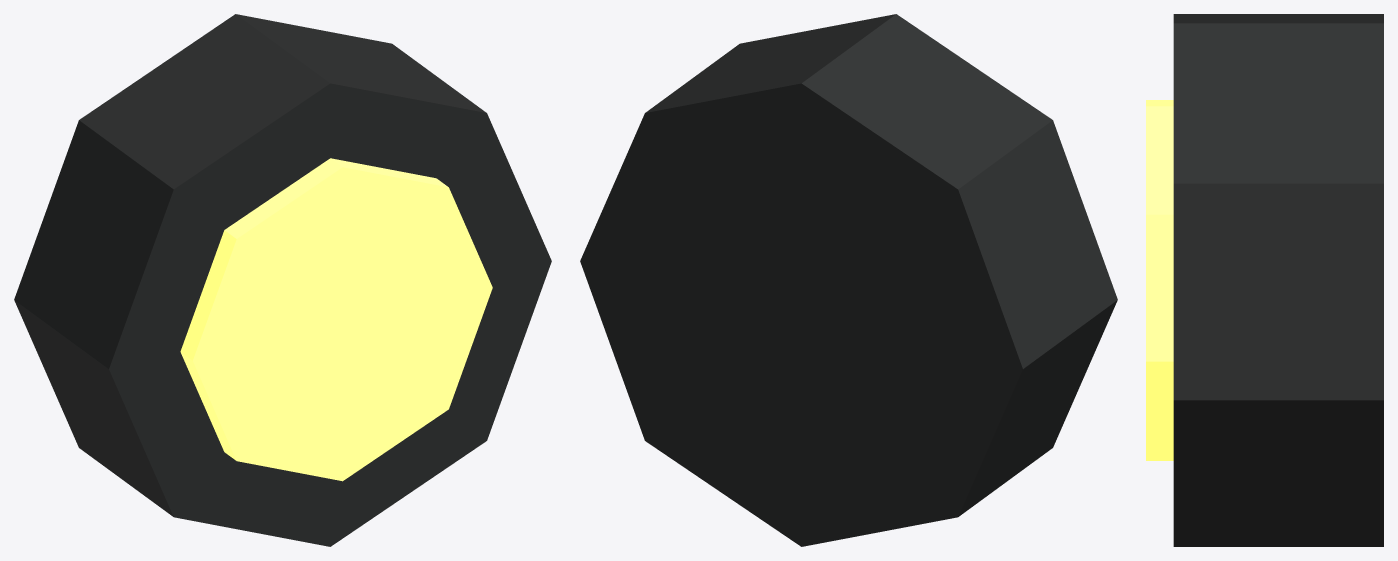
File: titan_core.glb
3 renders of one model, left to right at view 1: azimuth 30°, elevation 25°; view 2: azimuth 150°, elevation 25°; view 3: azimuth 270°, elevation 25°, orthographic. The views are drawn at different scales.
Parts seen in each view (by area): view 1: housing, core; view 2: housing; view 3: housing, core.
Boxes of the visible parts, x1=… form: housing: x1=14, y1=14, x2=551, y2=546; core: x1=180, y1=158, x2=492, y2=481; housing: x1=580, y1=14, x2=1117, y2=546; housing: x1=1173, y1=14, x2=1383, y2=546; core: x1=1146, y1=100, x2=1173, y2=460.
Size of the model in its own units: 1.24 by 1.24 by 0.52.
